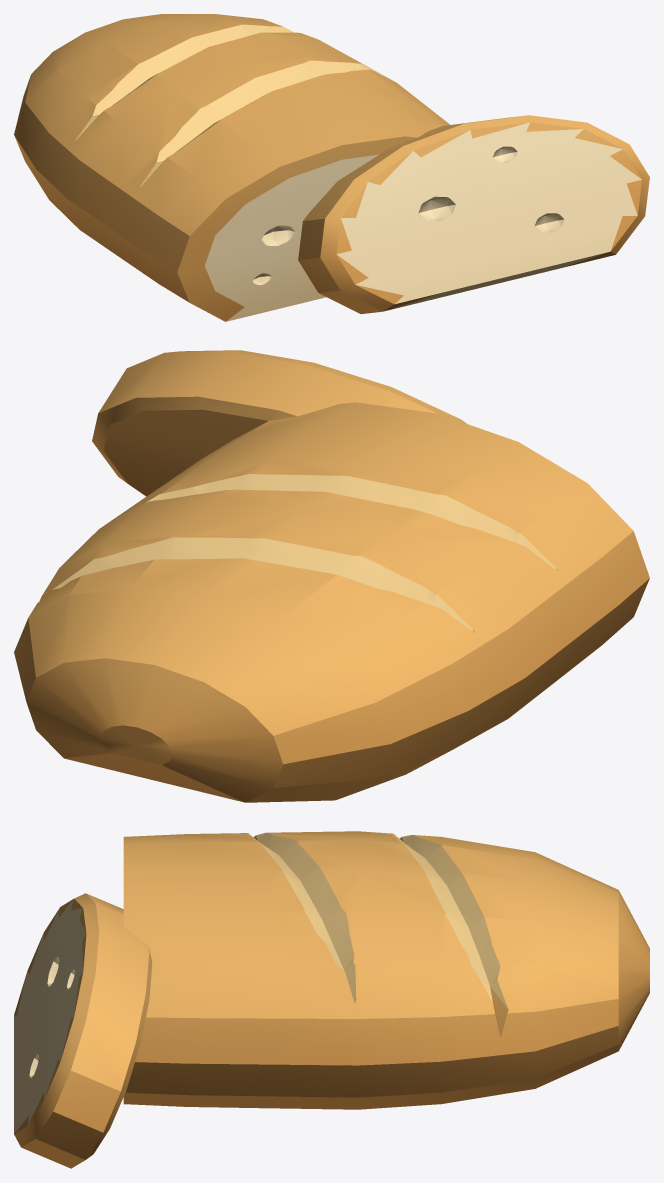
The model's file is food_bread_roll.glb.
The picture shows the model from 3 angles, top to bottom: view 1: azimuth 30°, elevation 25°; view 2: azimuth 150°, elevation 25°; view 3: azimuth 270°, elevation 25°; orthographic projection. The views are drawn at different scales.
Parts seen in each view (by area): view 1: Item; view 2: Item; view 3: Item.
Boxes of the visible parts, bbox=[...] form: Item: bbox=[14, 14, 649, 321]; Item: bbox=[14, 350, 649, 802]; Item: bbox=[14, 831, 649, 1168].
Size of the model in its own units: 0.9567 by 0.3151 by 1.04.
1 material, 1 textured.
